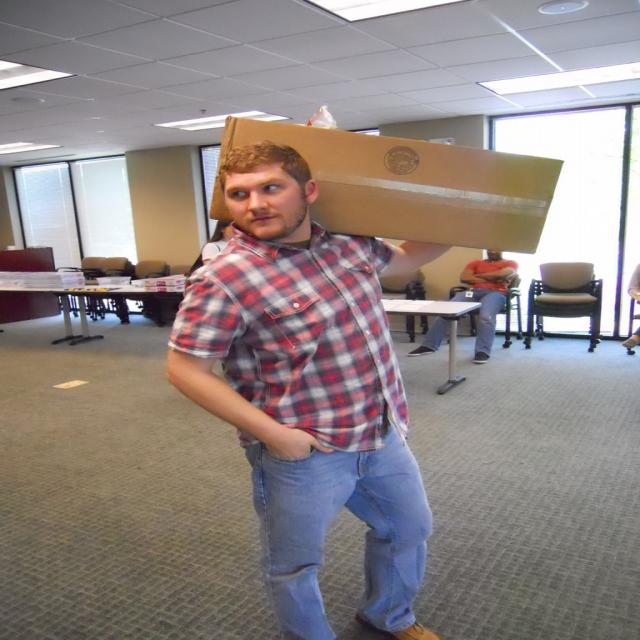chair: (528, 262, 604, 352), (0, 248, 57, 272)
desk: (0, 255, 190, 332)
person: (166, 135, 460, 639), (408, 250, 522, 361), (189, 220, 236, 276)
